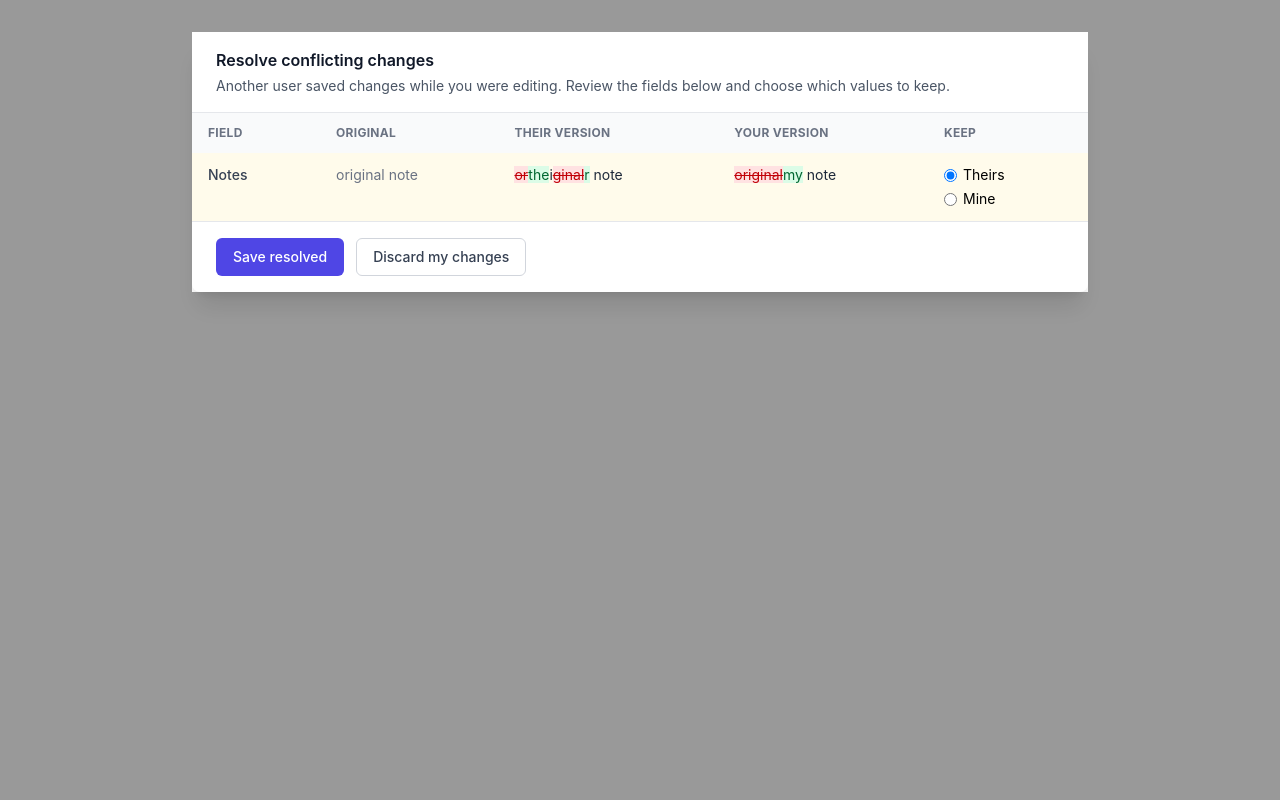
Scenario: FieldMergeModal › allows user to switch conflict selection to Mine
The image size is (1280, 800).
Click the radio button with test id "field-merge-radio-notes-mine" at (950, 199), box [944,192,957,206]
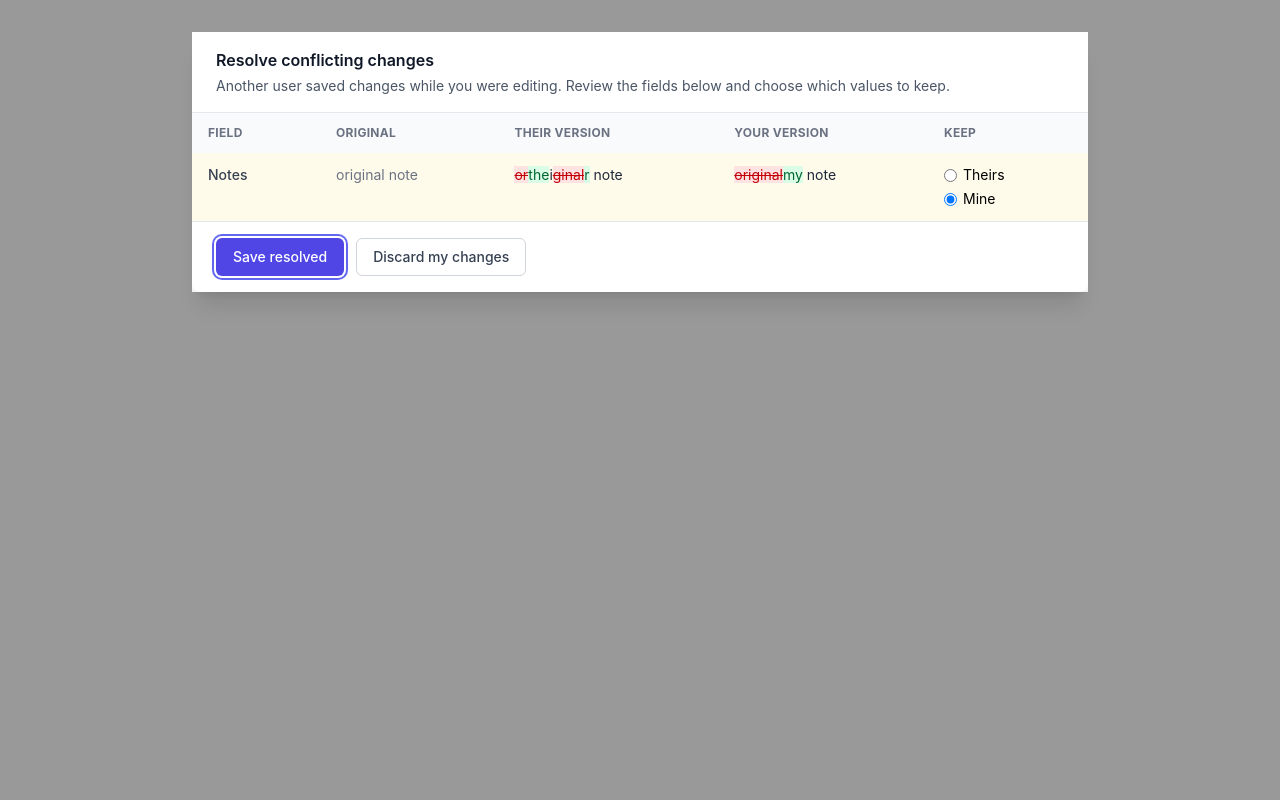
Expected: the radio button with test id "field-merge-radio-notes-mine" is checked, [944,192,957,206]
Expected: the radio button with test id "field-merge-radio-notes-theirs" is not checked, [944,168,957,182]
